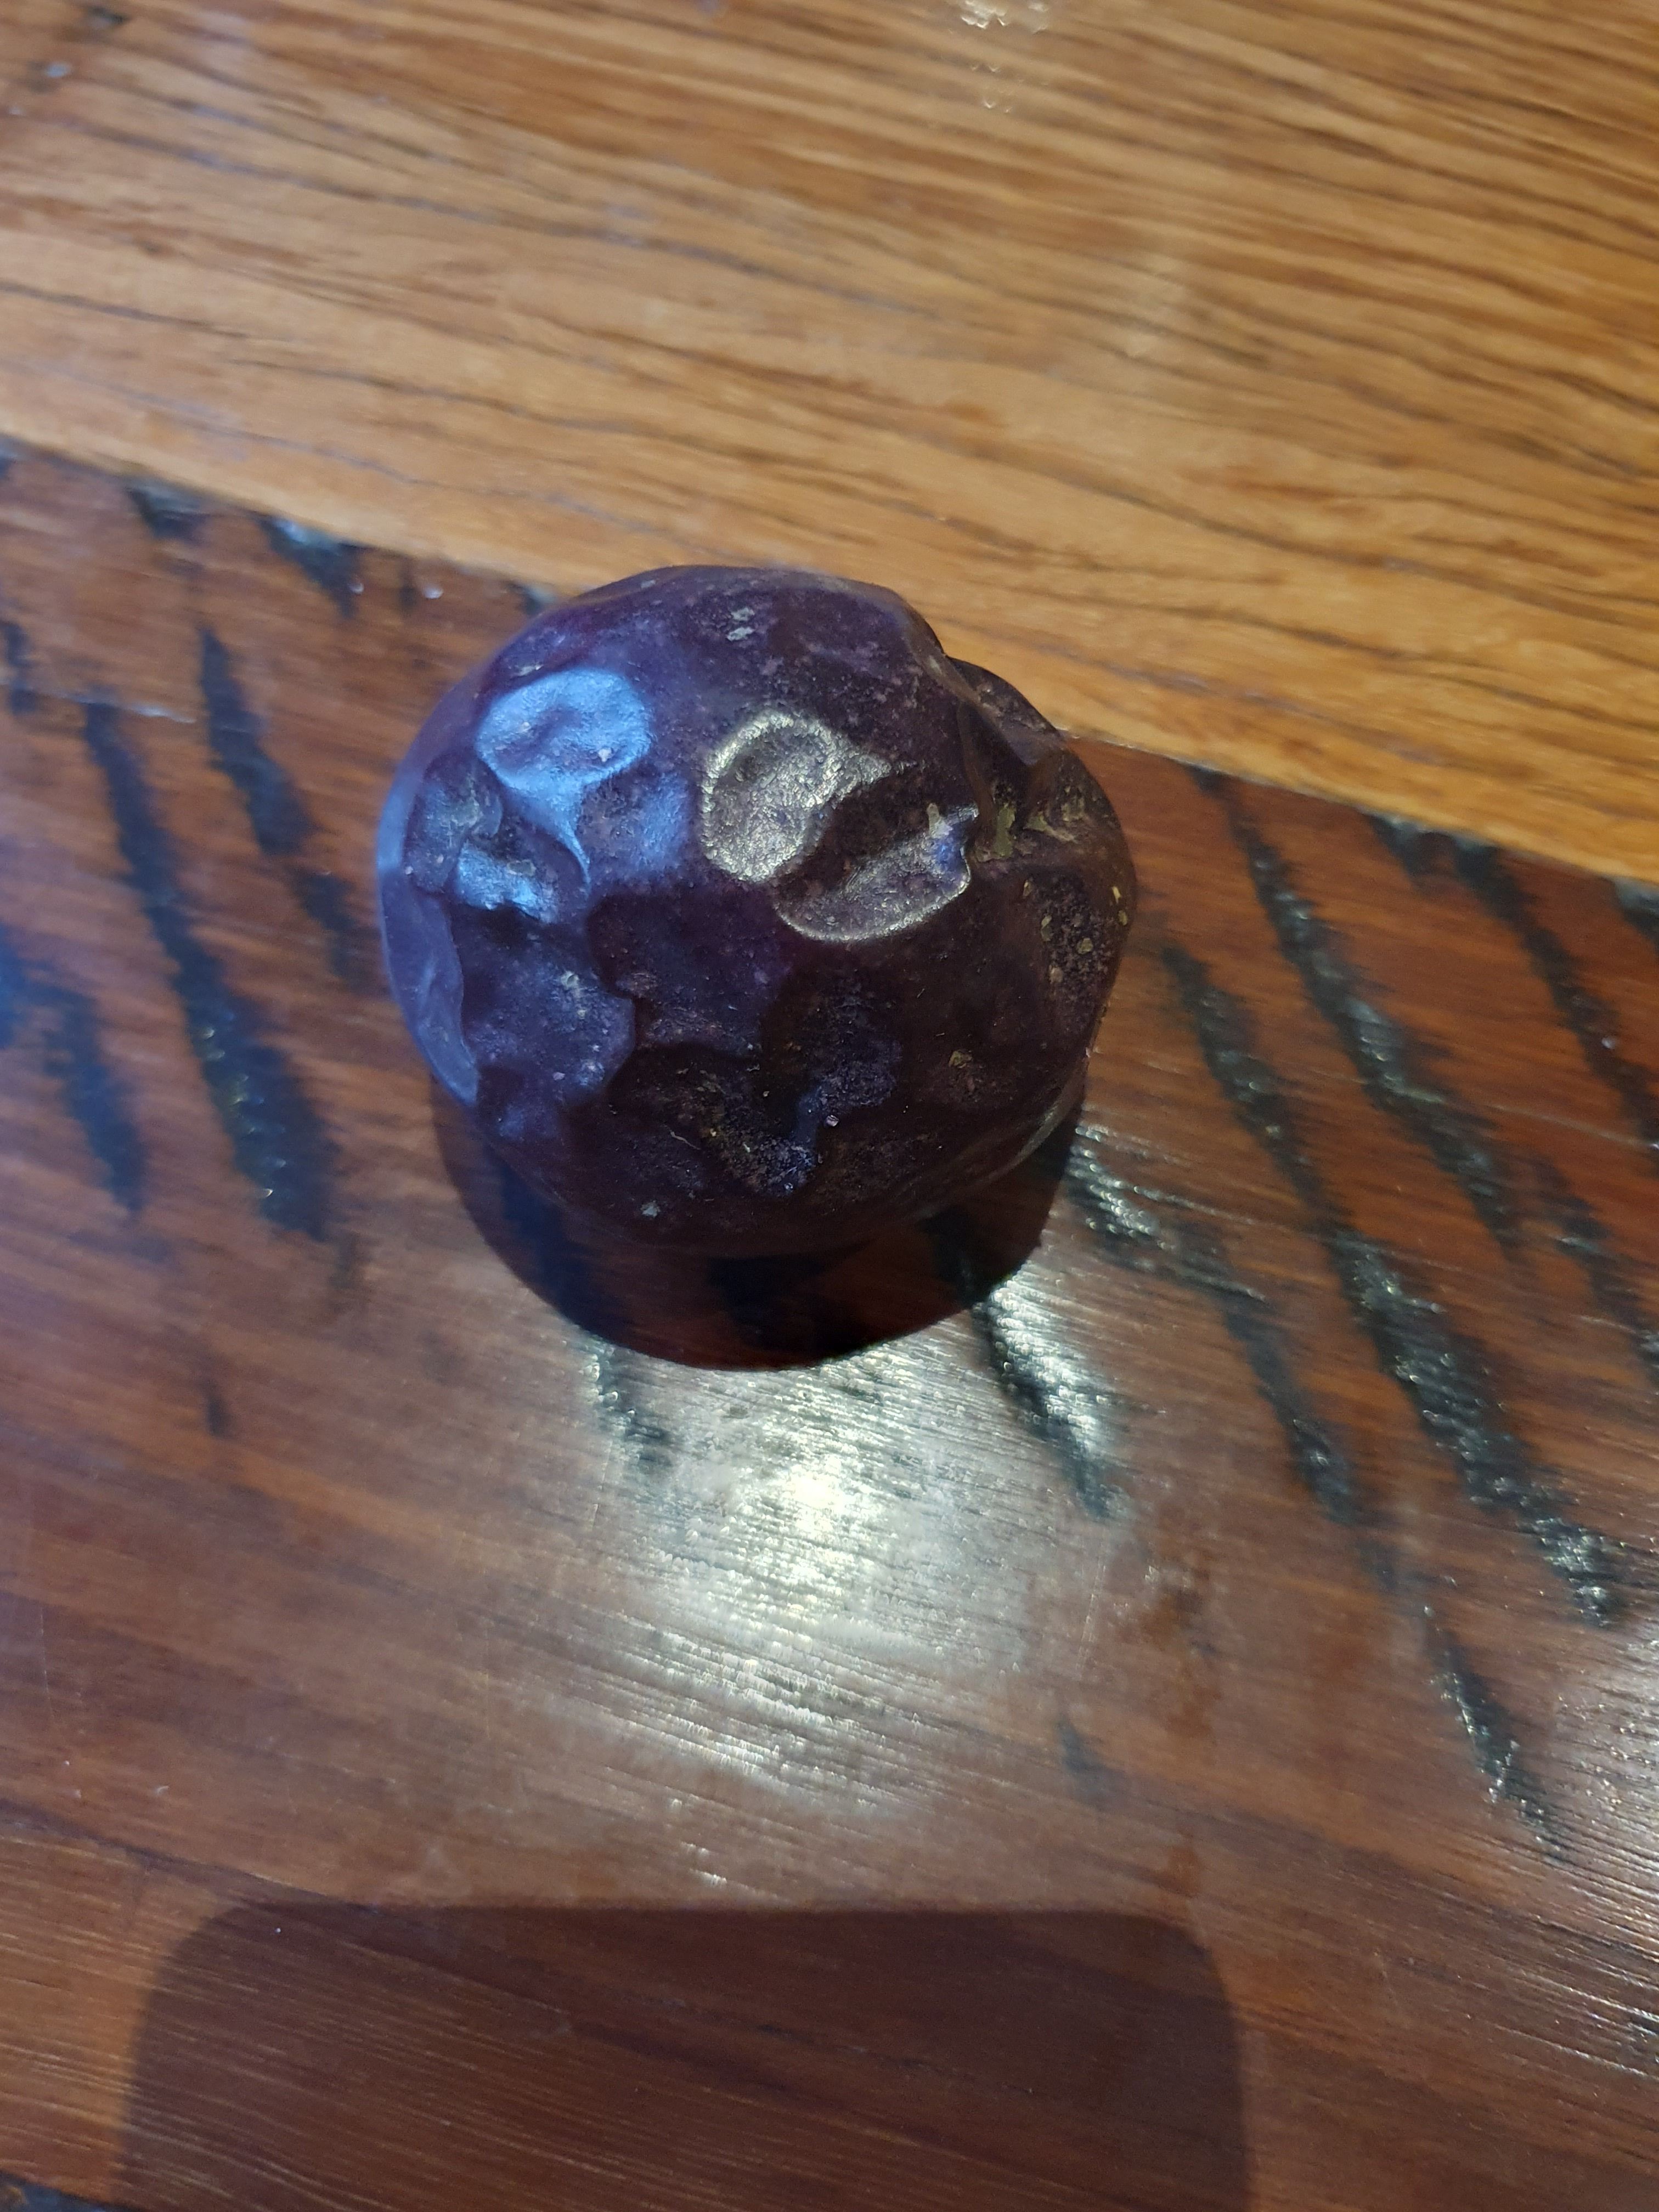passionfruit: (338, 528, 1154, 1352)
